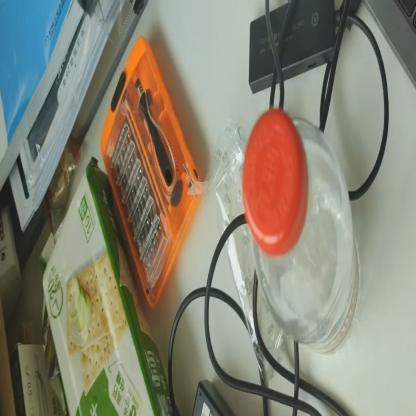Glass Bottle: (243, 103, 359, 355)
